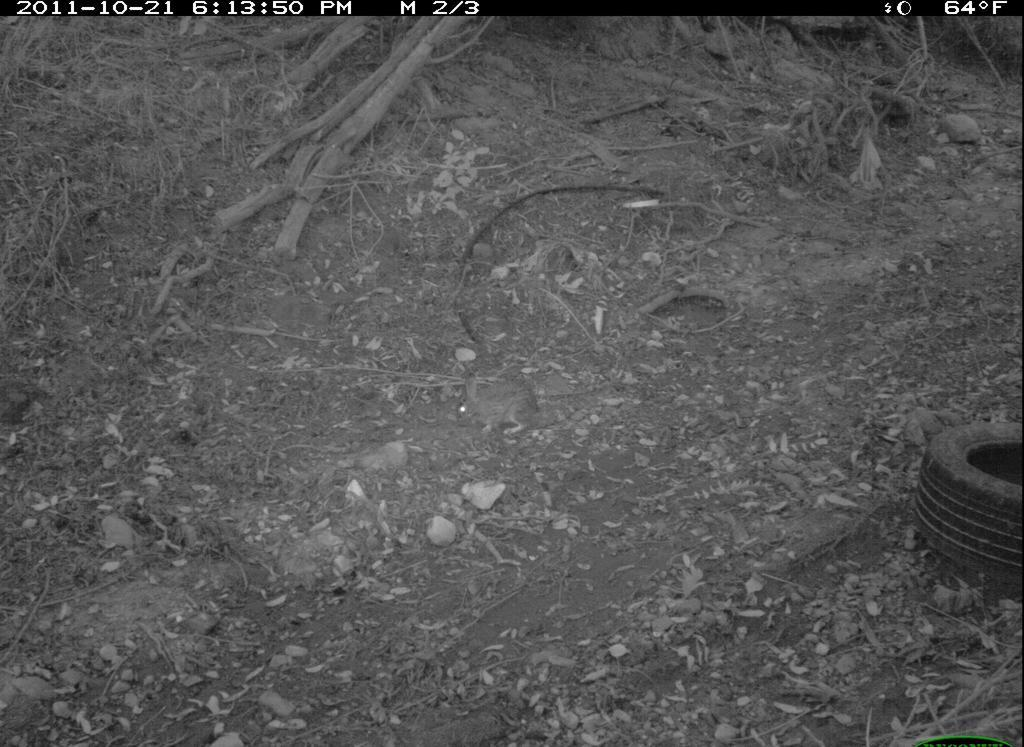rabbit: (449, 365, 554, 449)
